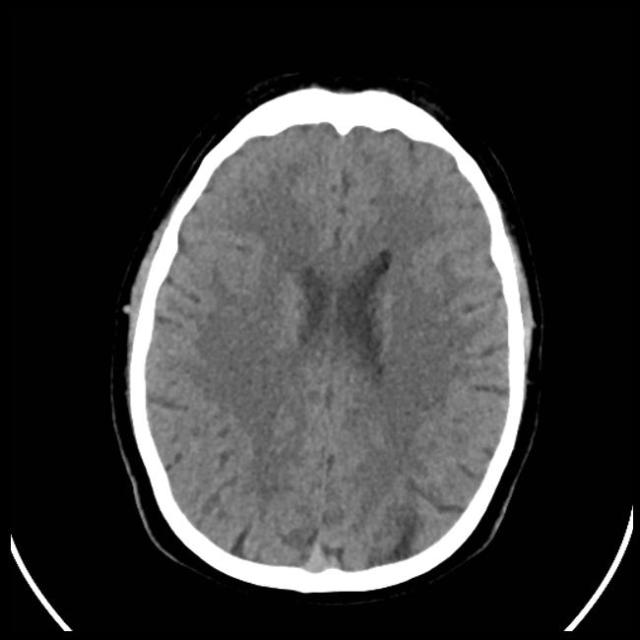lesion: (118, 89, 536, 586)
